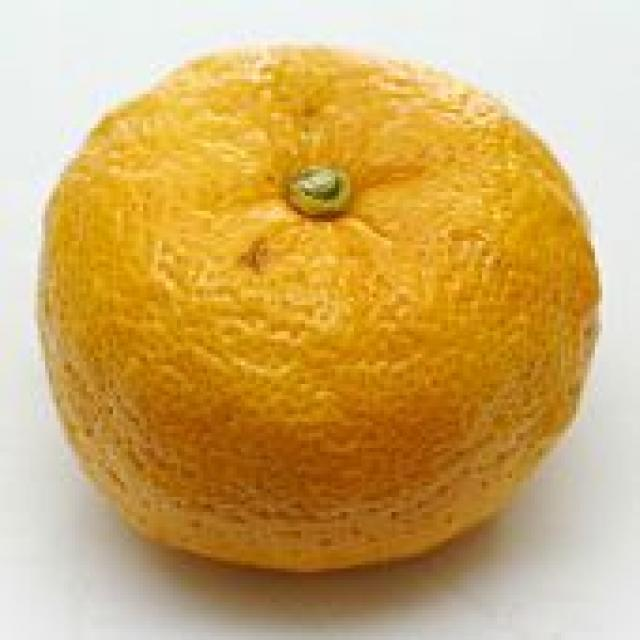Orange: (41, 44, 604, 580)
